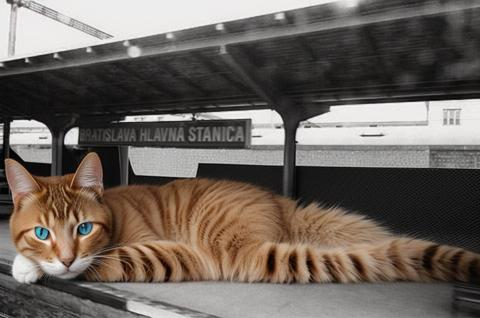cat: (1, 145, 480, 283)
